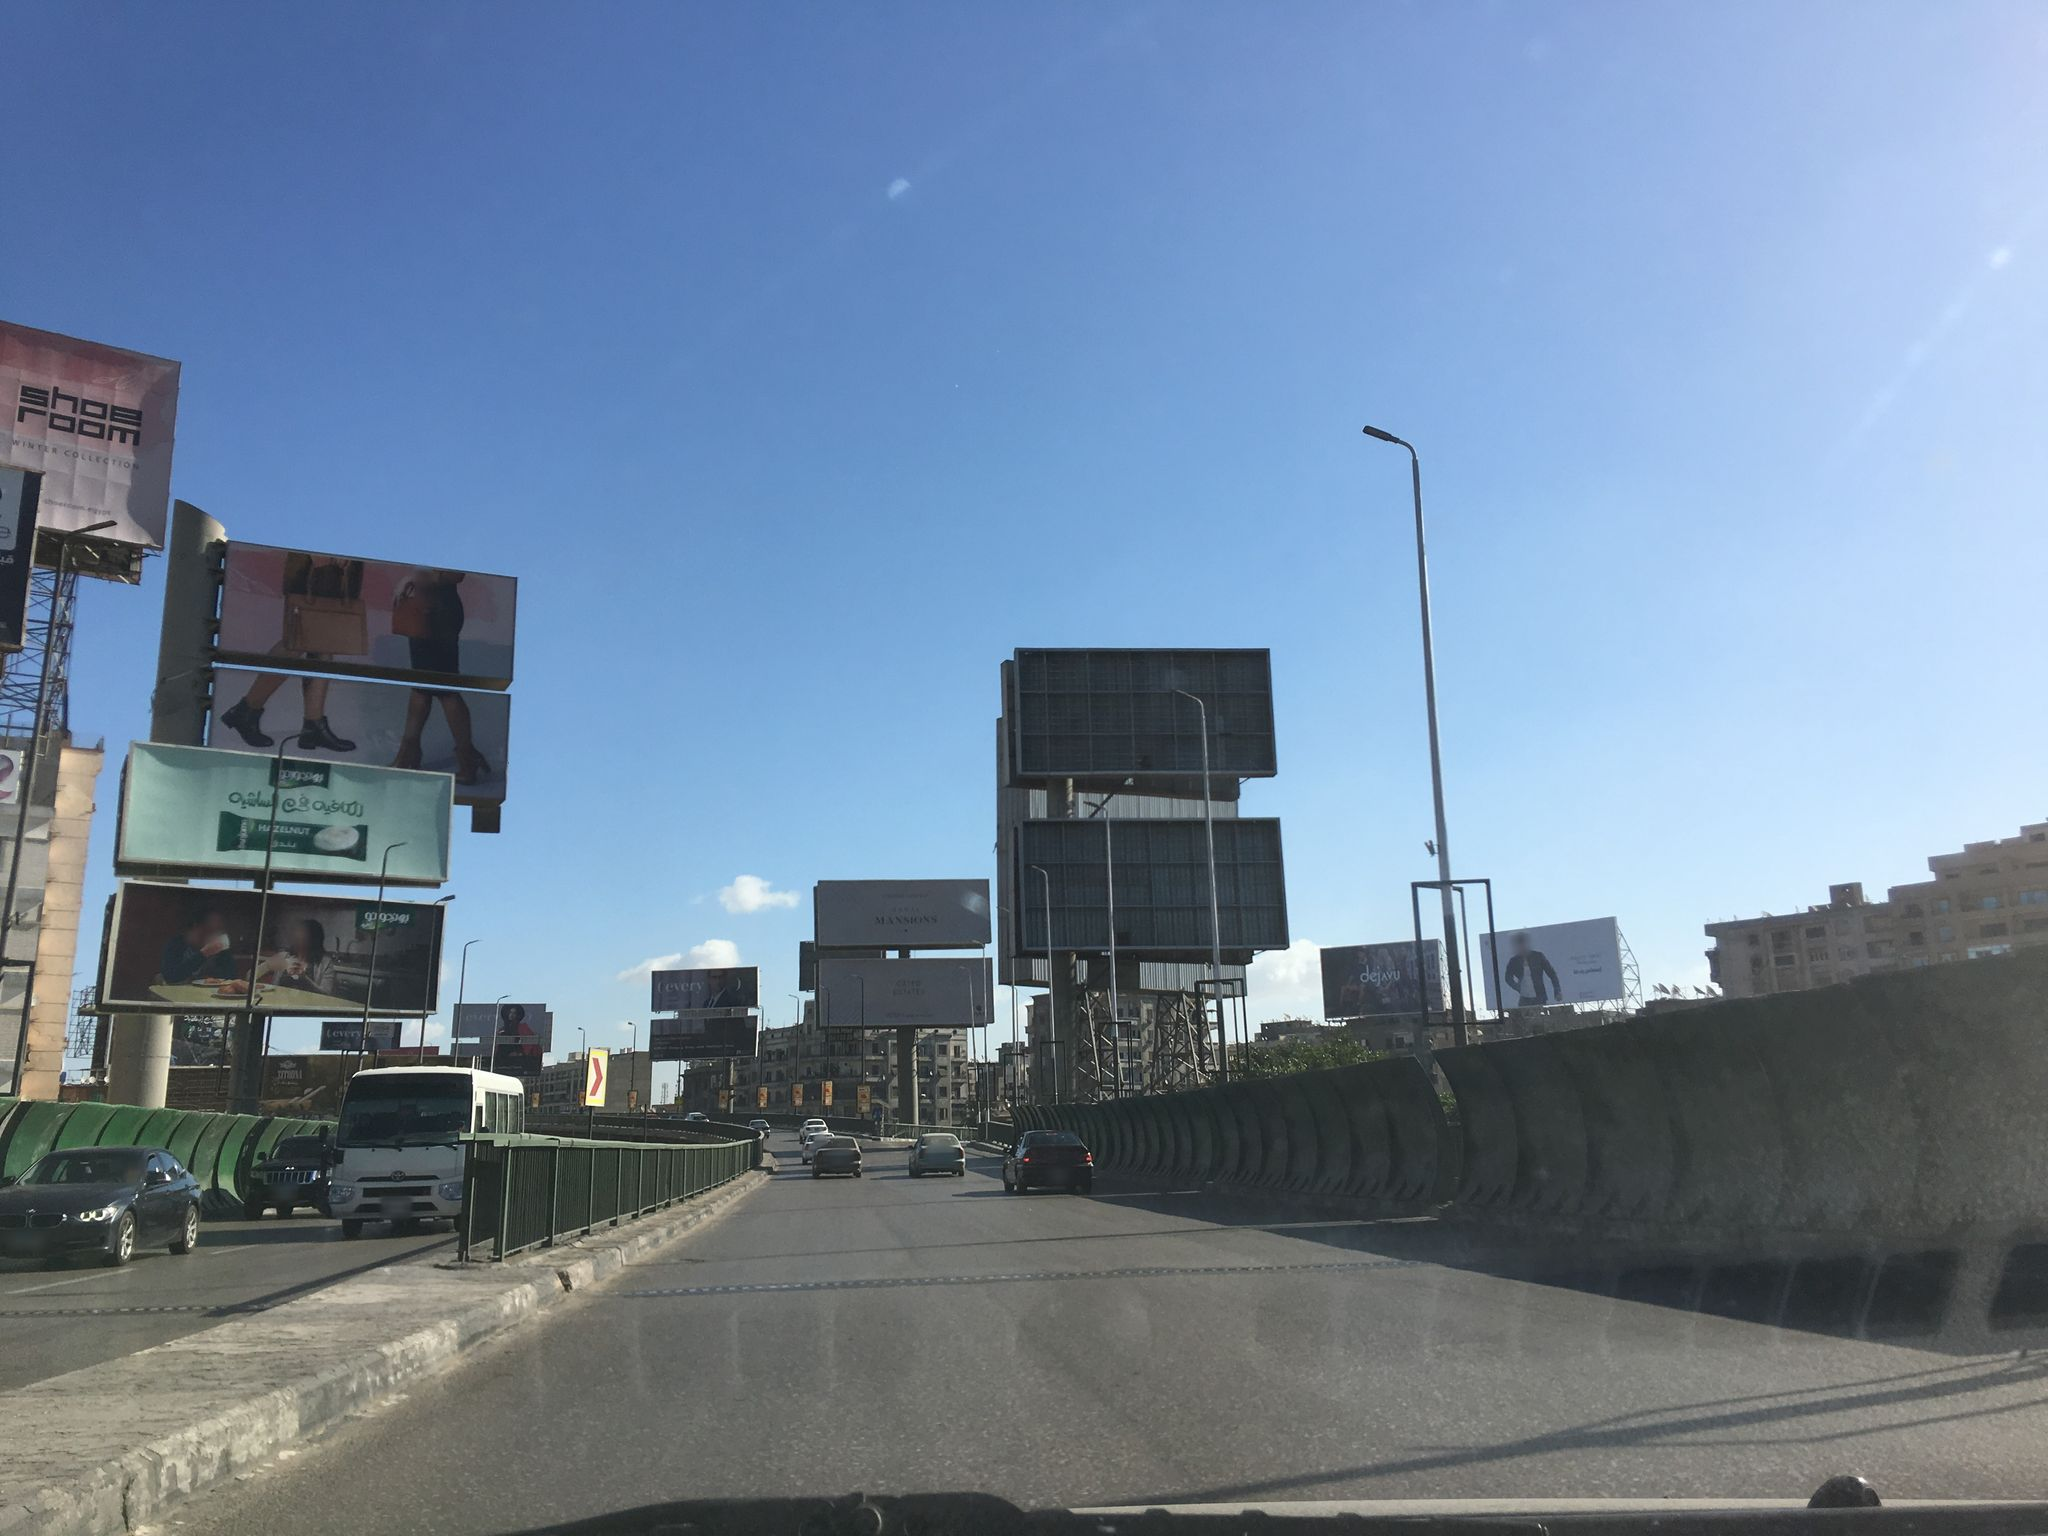bus: (318, 1065, 526, 1231)
car: (0, 1146, 202, 1265), (244, 1134, 339, 1212), (1001, 1129, 1092, 1196), (906, 1133, 964, 1176), (811, 1134, 863, 1176), (801, 1133, 835, 1162), (798, 1118, 827, 1142), (747, 1120, 771, 1137)
